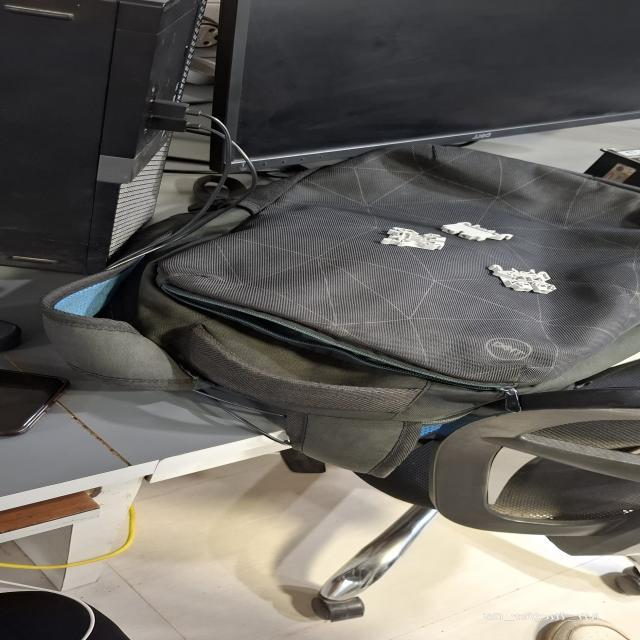Inverted: (437, 221, 516, 242)
Reject: (486, 263, 559, 295), (374, 226, 448, 251)
